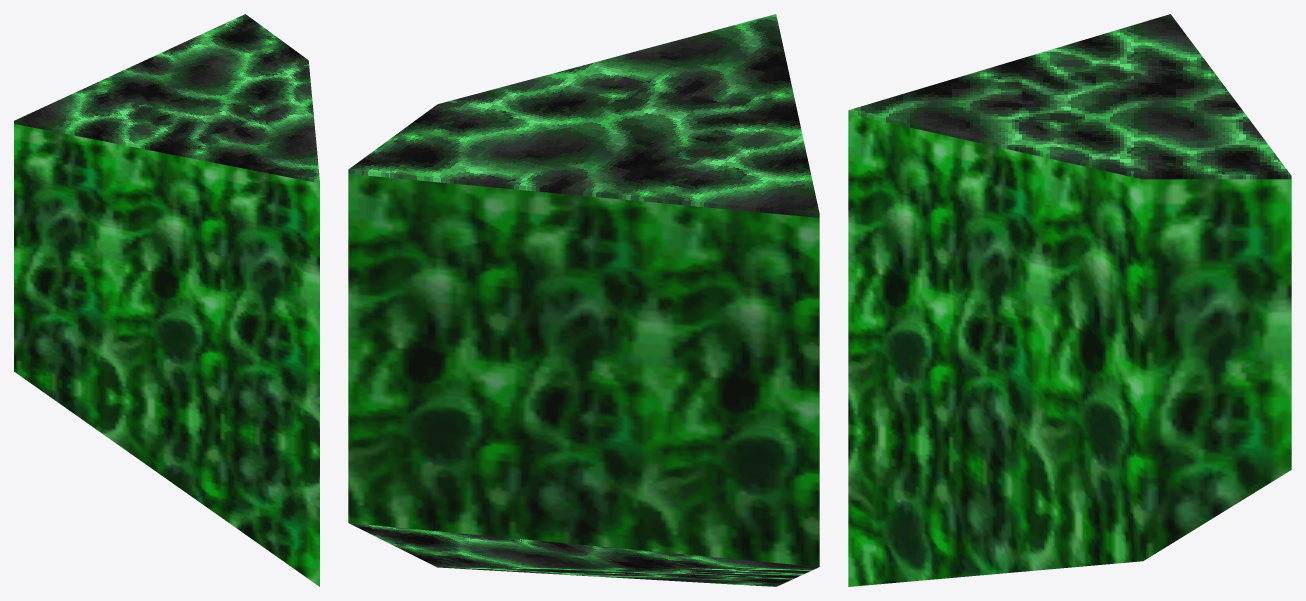
The picture shows the model from 3 angles, left to right: view 1: azimuth 30°, elevation 25°; view 2: azimuth 150°, elevation 25°; view 3: azimuth 270°, elevation 25°; orthographic projection. The views are drawn at different scales.
Visible parts, largest first — view 1: kb3_j; view 2: kb3_j; view 3: kb3_j.
Boxes of the visible parts, x1=… form: kb3_j: x1=14, y1=14, x2=319, y2=586; kb3_j: x1=348, y1=14, x2=819, y2=586; kb3_j: x1=848, y1=14, x2=1291, y2=586.
Bounding box in the file's own units: 238 × 326 × 275.
Materials: 2 (2 with a texture image).
